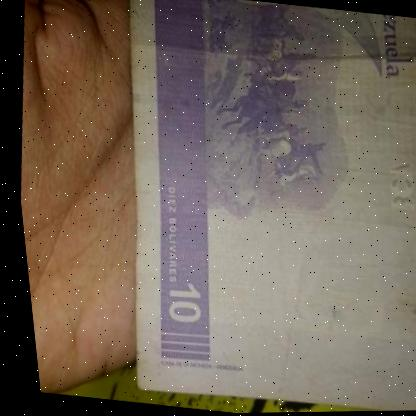ten-back-vef: (86, 0, 416, 415)
